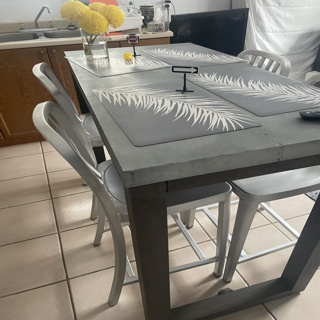sign_noentry: (127, 33, 137, 42)
sign_oneway_right: (171, 65, 198, 72)
